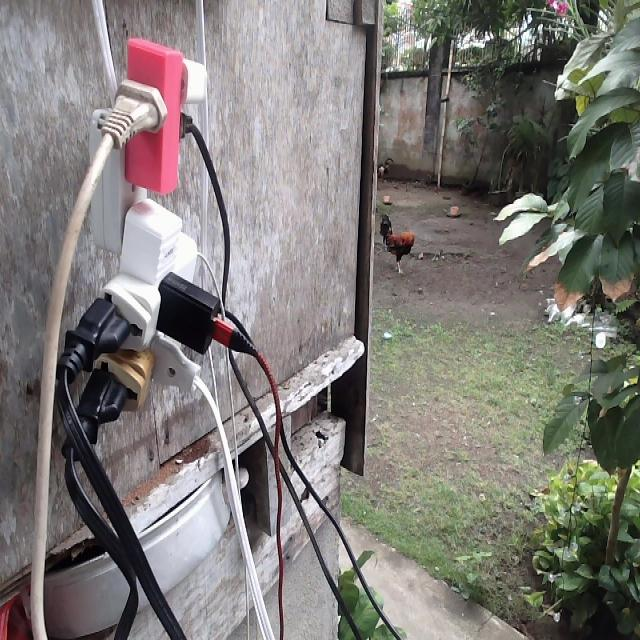-: (54, 37, 251, 456)
